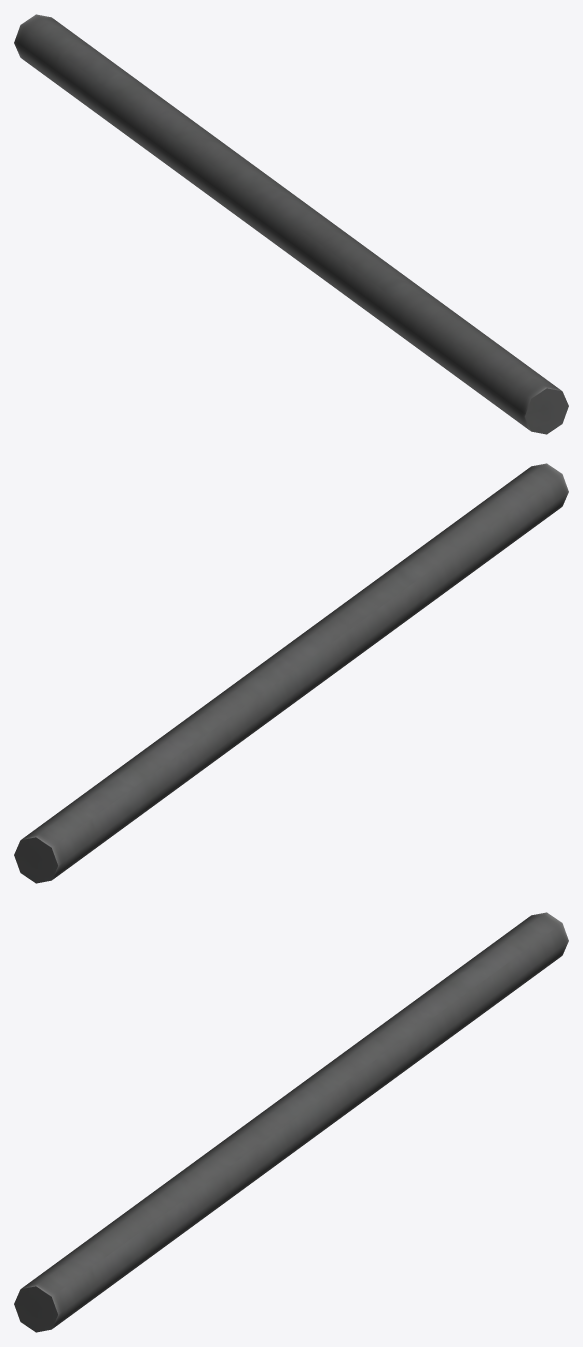
File: vela_landing_leg_srf_1_suspend_lower.obj
The picture shows the model from 3 angles, top to bottom: view 1: azimuth 30°, elevation 25°; view 2: azimuth 150°, elevation 25°; view 3: azimuth 330°, elevation 25°; orthographic projection.
Visible parts, largest first — view 1: suspend_lower; view 2: suspend_lower; view 3: suspend_lower.
Part boxes in pixels (x1,y1,x2,y2): suspend_lower: (14,14,568,434); suspend_lower: (14,463,568,883); suspend_lower: (14,912,568,1332).
Bounding box in the file's own units: 0.0375 × 0.0375 × 0.75.
